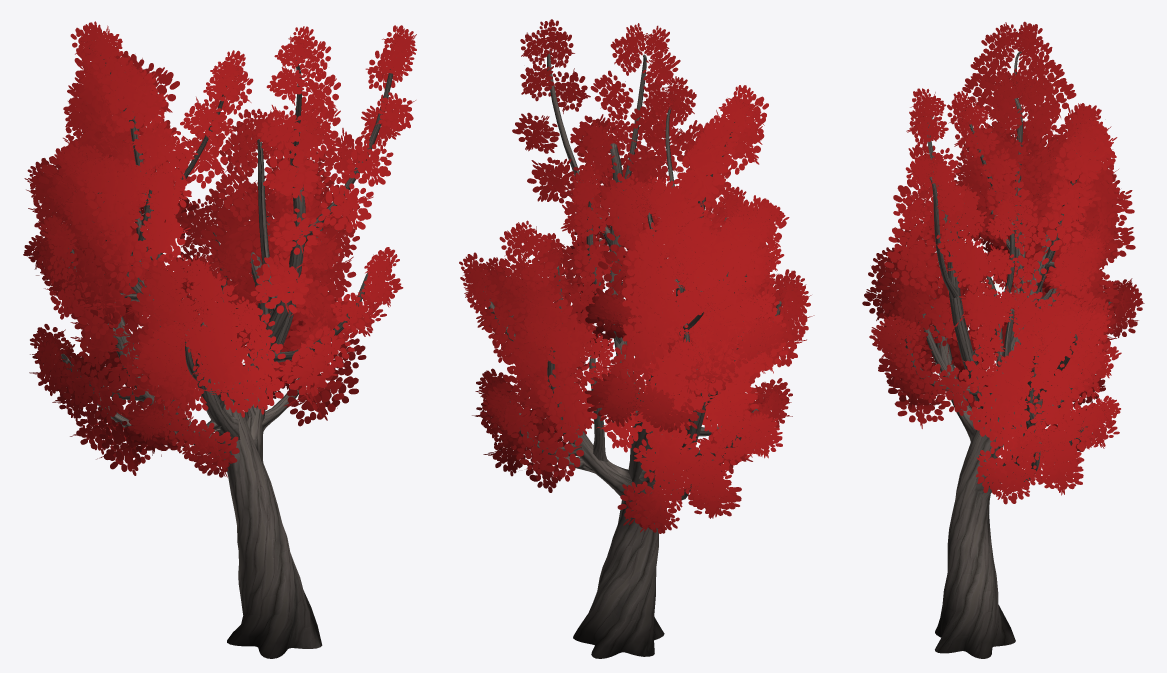
File: TwistedTree_2.gltf
The picture shows the model from 3 angles, left to right: view 1: azimuth 30°, elevation 25°; view 2: azimuth 150°, elevation 25°; view 3: azimuth 270°, elevation 25°; orthographic projection. The views are drawn at different scales.
Visible parts, largest first — view 1: TwistedTree_2; view 2: TwistedTree_2; view 3: TwistedTree_2.
Boxes of the visible parts, box(x1,y1,x2,y2) form: TwistedTree_2: box(23, 21, 416, 658); TwistedTree_2: box(459, 19, 814, 658); TwistedTree_2: box(862, 21, 1144, 658).
Size of the model in its own units: 10.56 by 18.95 by 9.2.
Materials: 2 (2 with a texture image).
